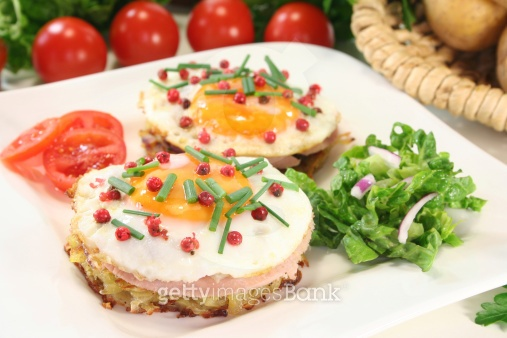chopped lettuce: (333, 167, 449, 253)
fried egg: (89, 158, 296, 275), (156, 67, 333, 154)
